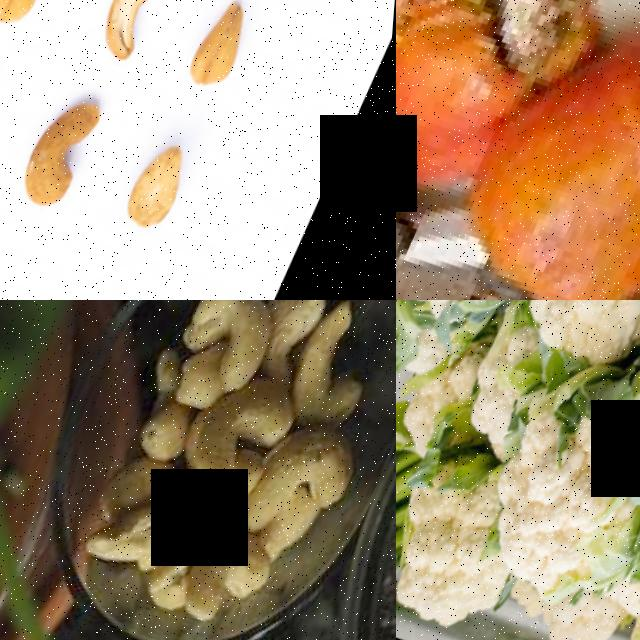cashew: (0, 52, 143, 249), (230, 414, 373, 576), (159, 0, 298, 136), (113, 114, 234, 268), (476, 0, 640, 103), (94, 470, 216, 591), (188, 386, 287, 515), (87, 0, 219, 81), (186, 540, 297, 635), (294, 323, 378, 426), (196, 300, 288, 393), (396, 153, 448, 300), (0, 29, 36, 198), (262, 300, 348, 370), (0, 0, 95, 46), (461, 265, 570, 300)
cauliflower: (476, 357, 640, 621), (396, 438, 577, 640)
